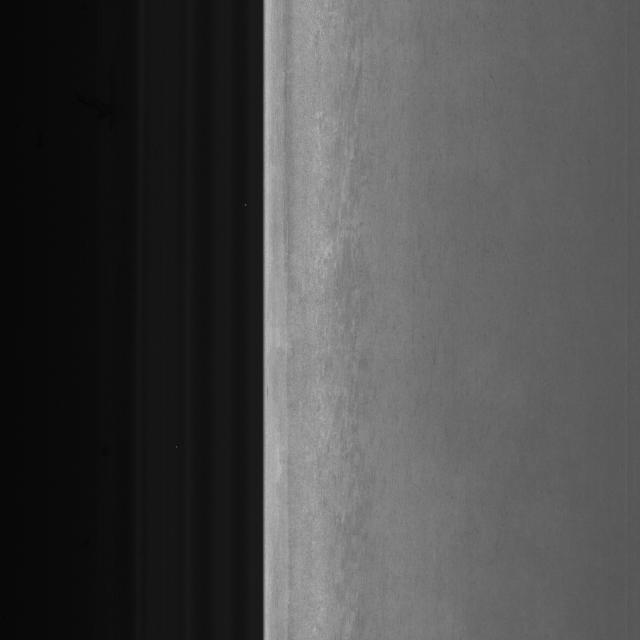inclusion: (322, 82, 387, 440)
